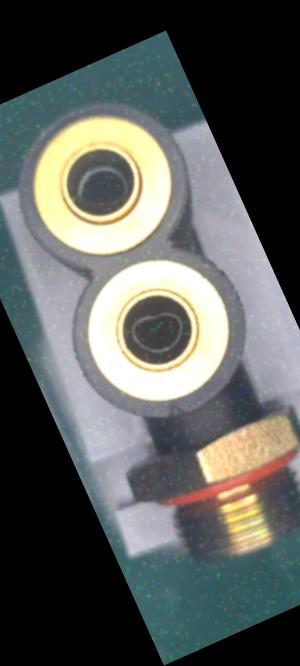bump: (155, 390, 197, 429)
off-centered: (60, 149, 138, 228), (121, 297, 192, 366)
